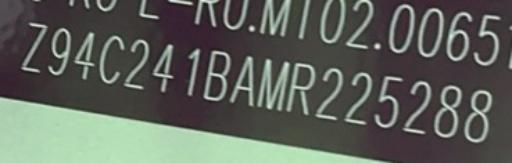letter: (256, 57, 292, 112), (462, 87, 494, 145), (342, 70, 374, 127), (400, 79, 432, 136), (374, 73, 404, 132), (433, 83, 463, 142), (284, 61, 316, 116), (19, 20, 49, 75), (202, 48, 232, 103), (314, 66, 344, 121), (96, 33, 126, 86), (122, 37, 150, 92), (151, 42, 177, 97), (228, 55, 256, 106), (45, 26, 71, 80), (72, 29, 96, 81), (182, 47, 202, 100)
